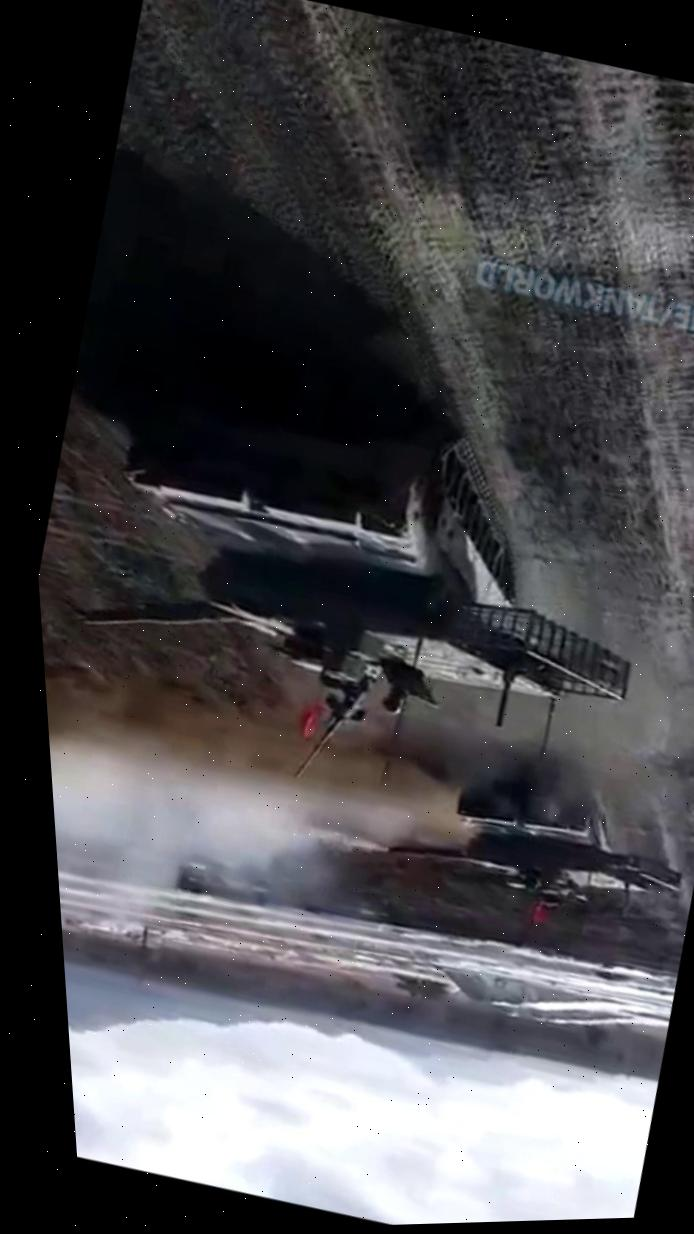tank: (23, 327, 694, 862), (371, 739, 694, 951)
